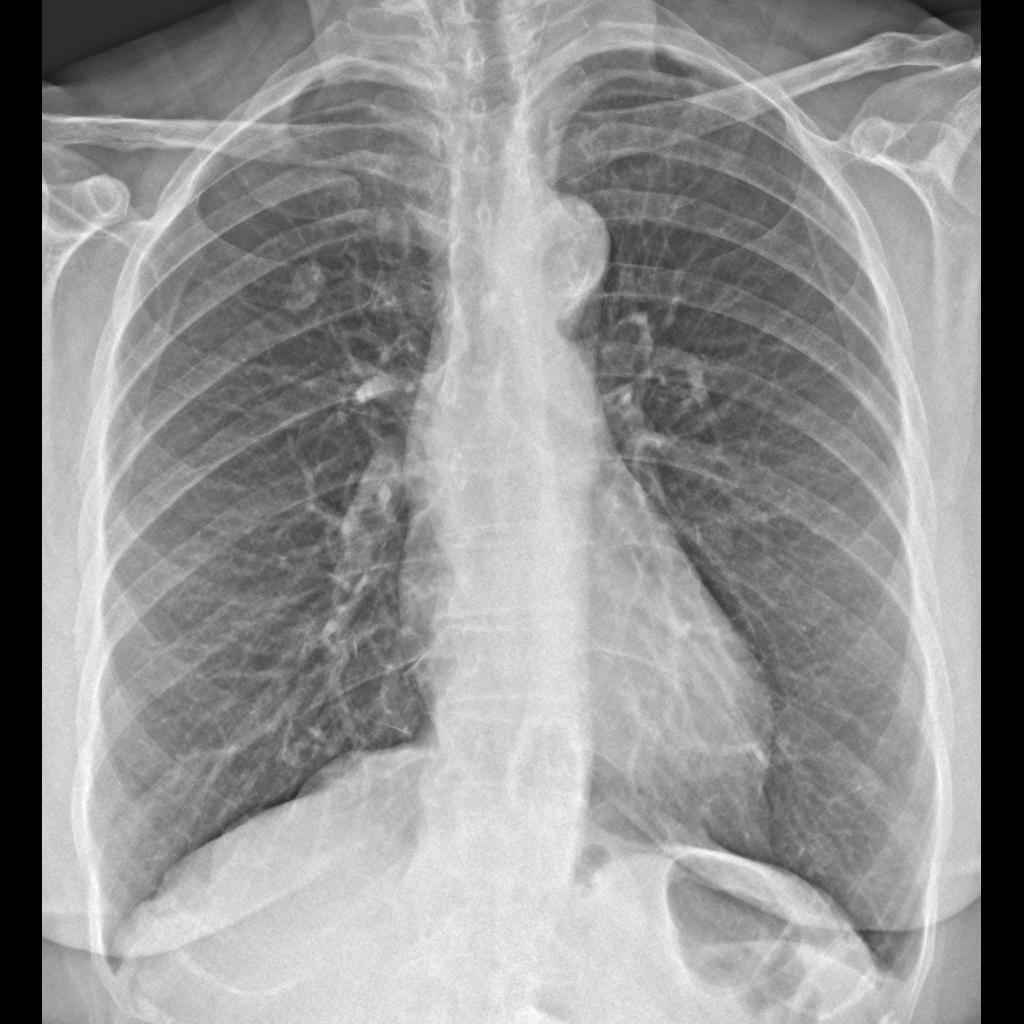Nodule: (277, 255, 329, 323)
